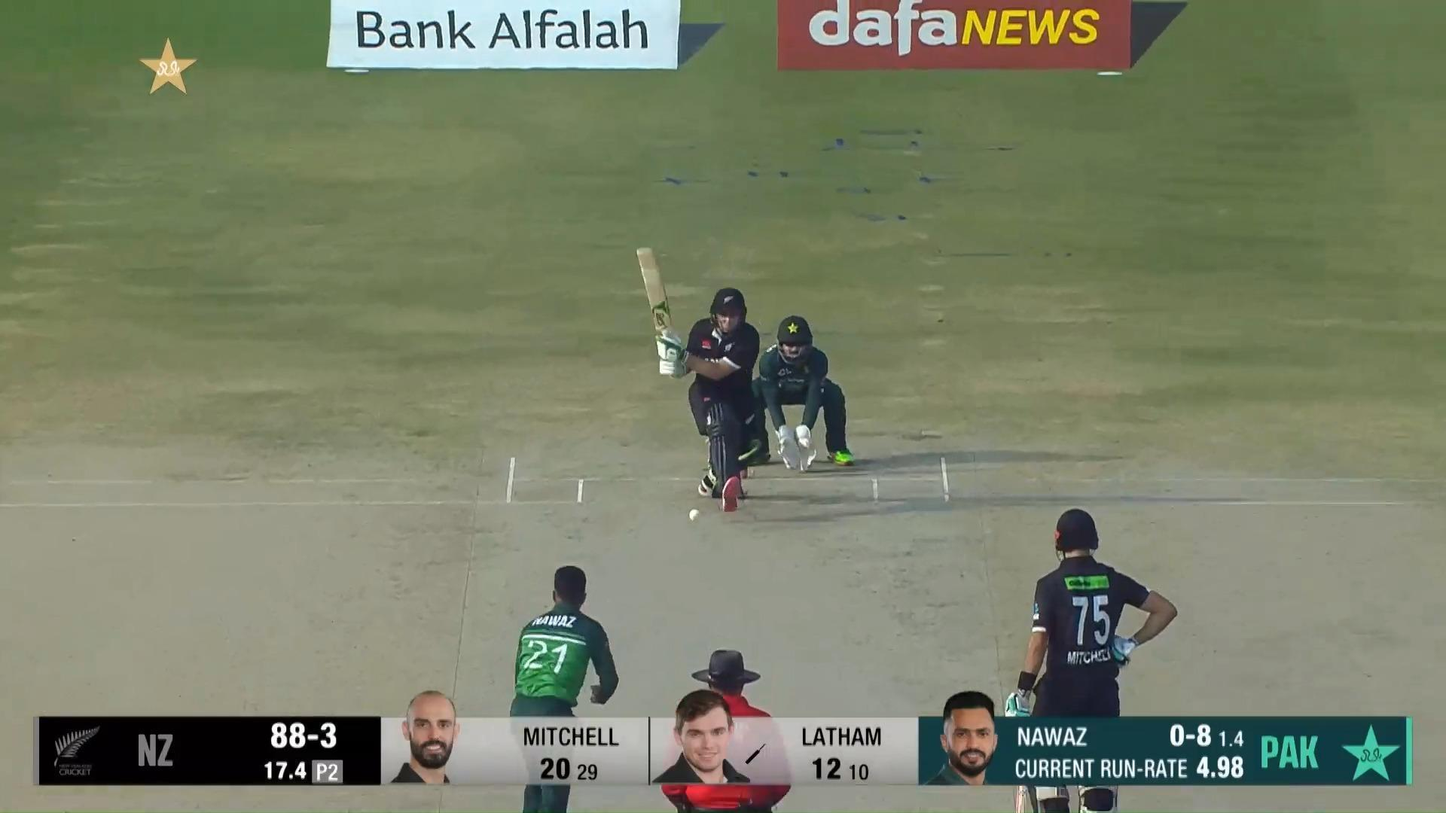BM 1: (636, 246, 760, 512)
BO: (507, 564, 621, 813)
